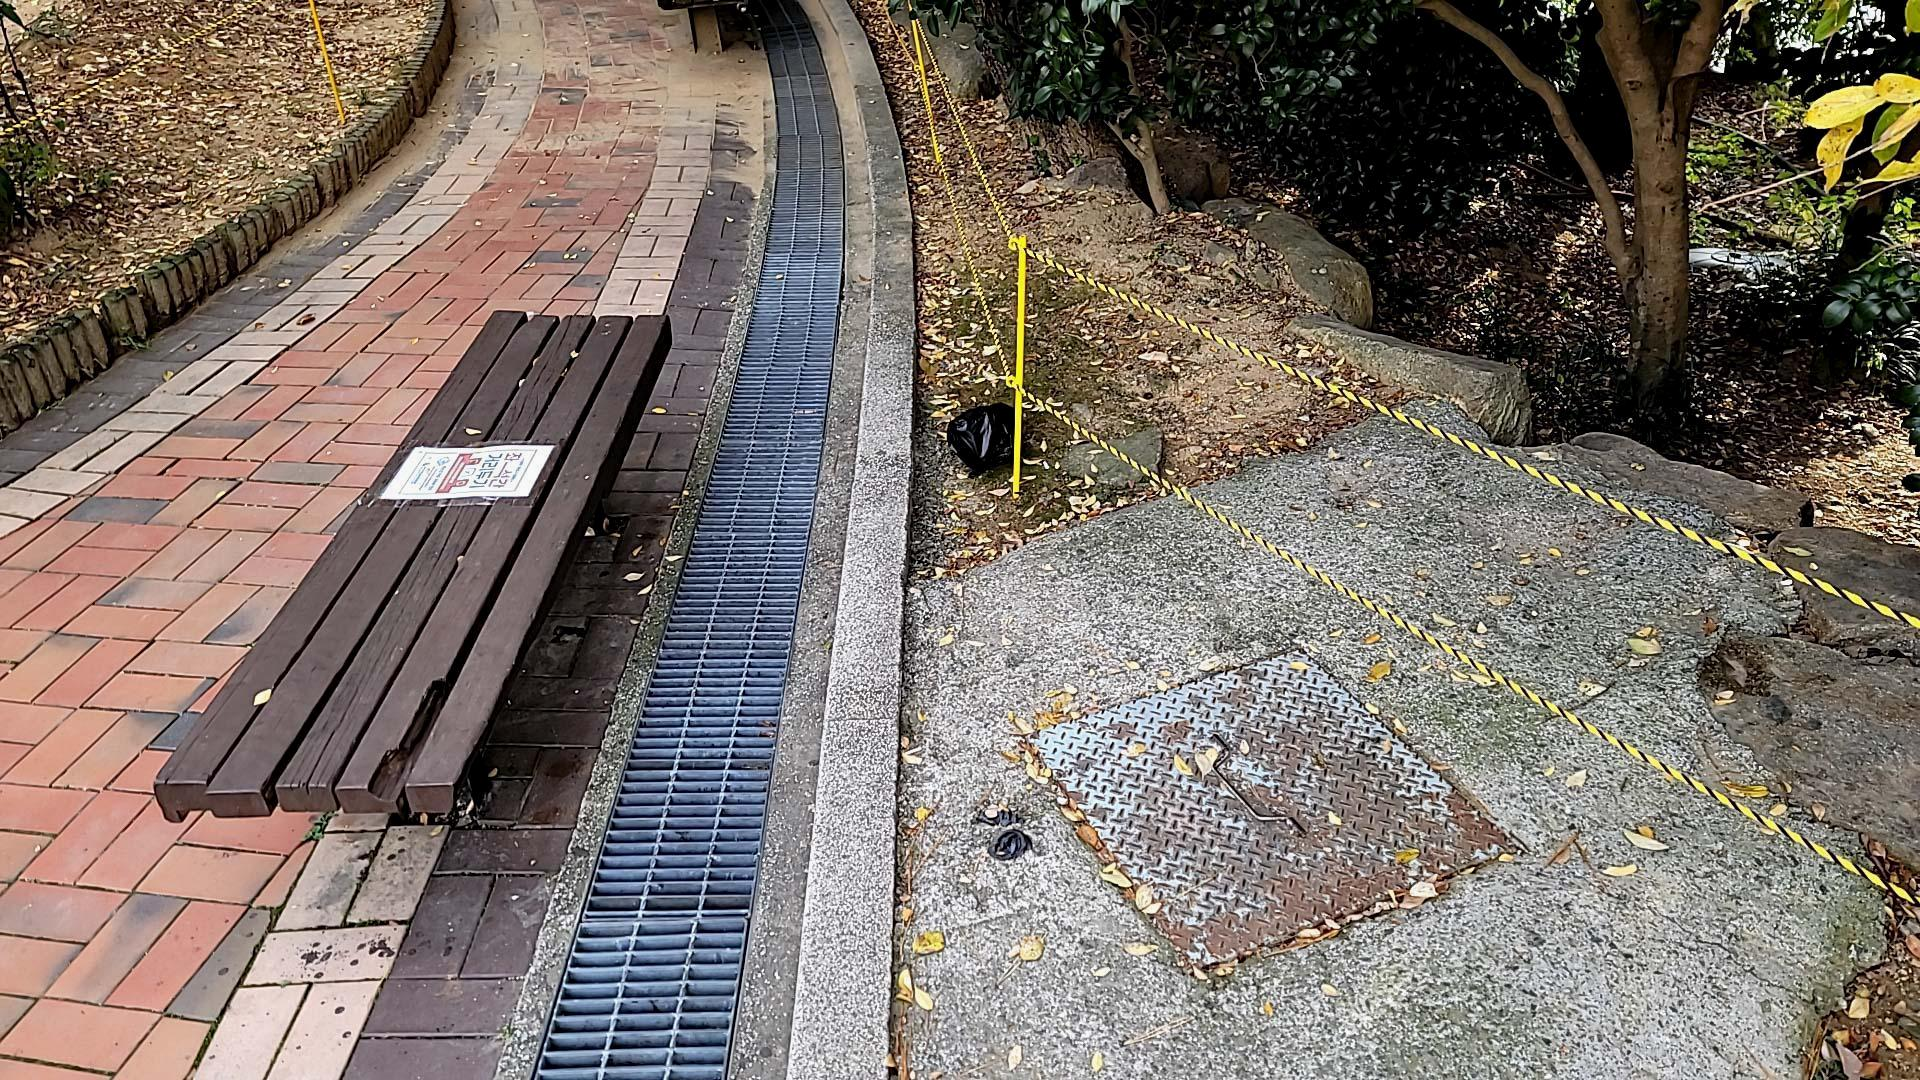black_bag: (948, 400, 1033, 477)
